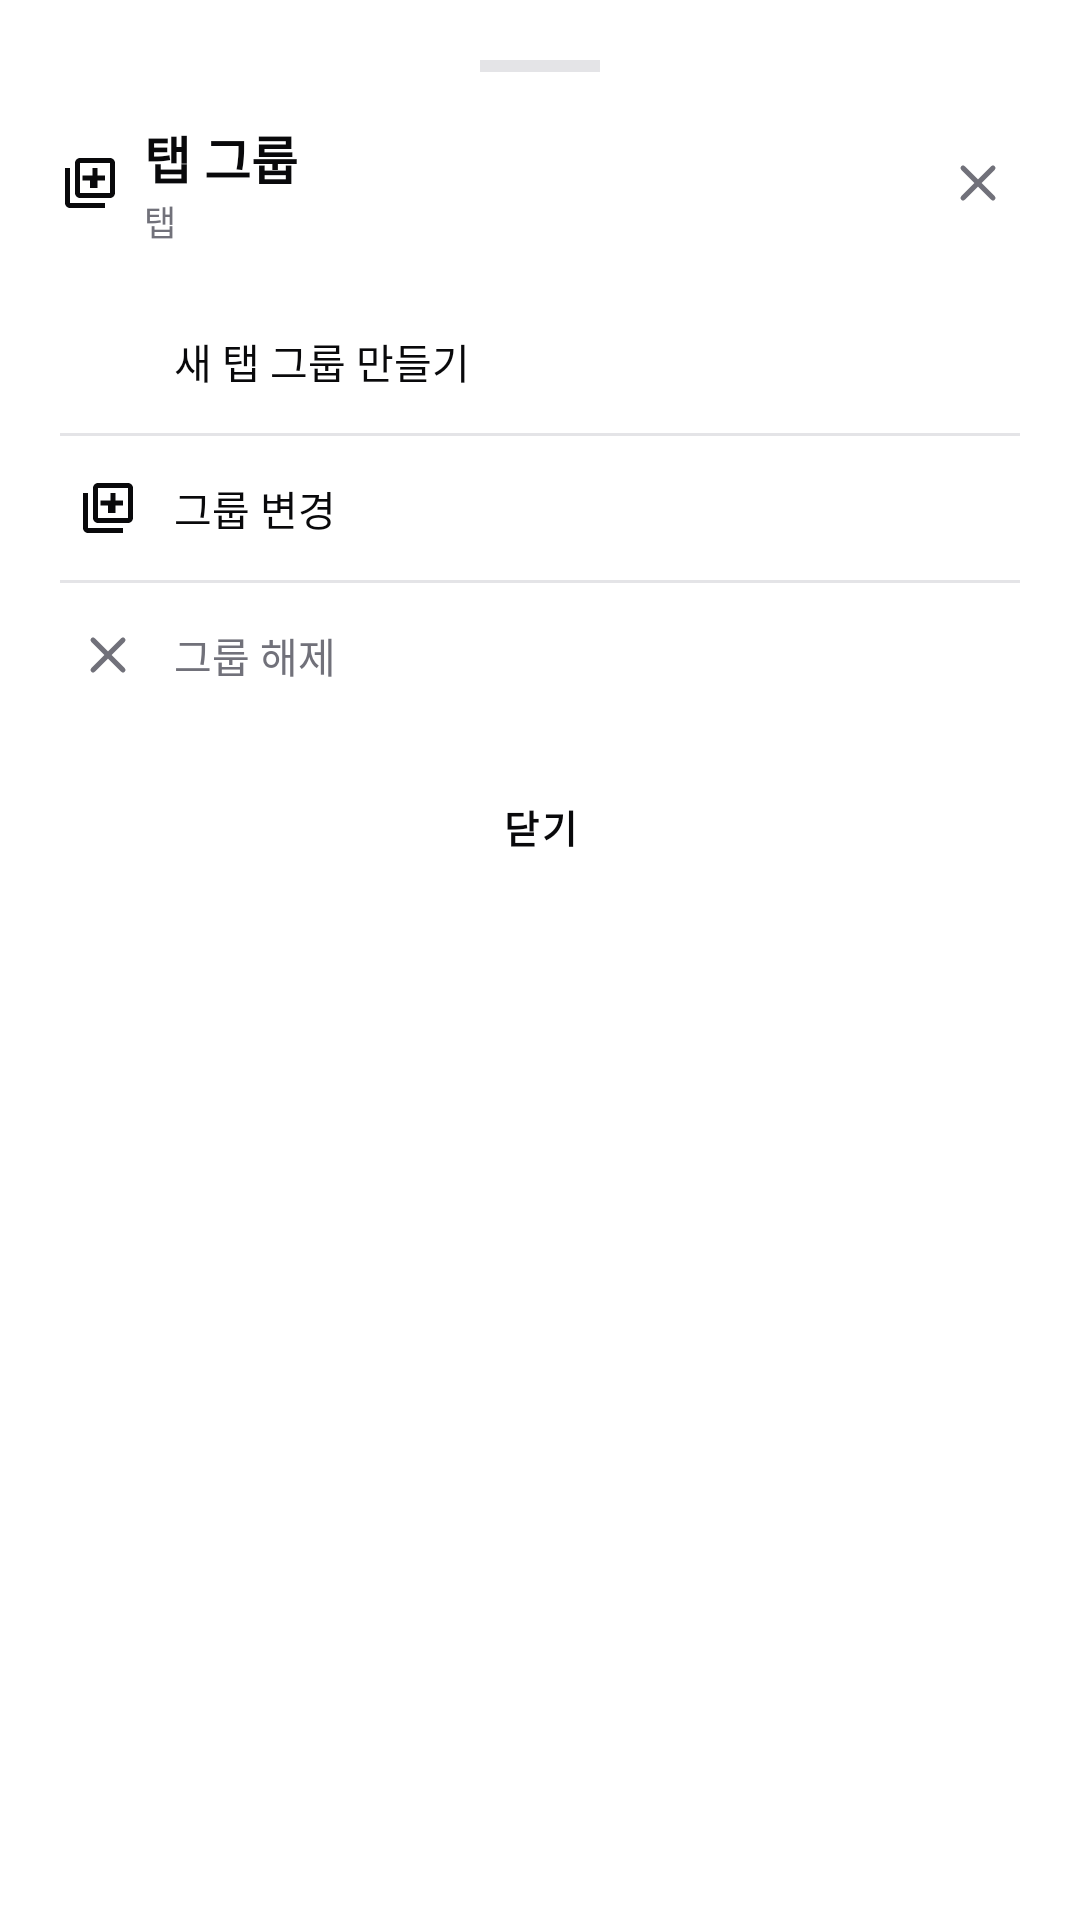

Point at icon controls on the screen. Image size 1080×1920, points as (x,y).
Close: (978,183), (108,655)
